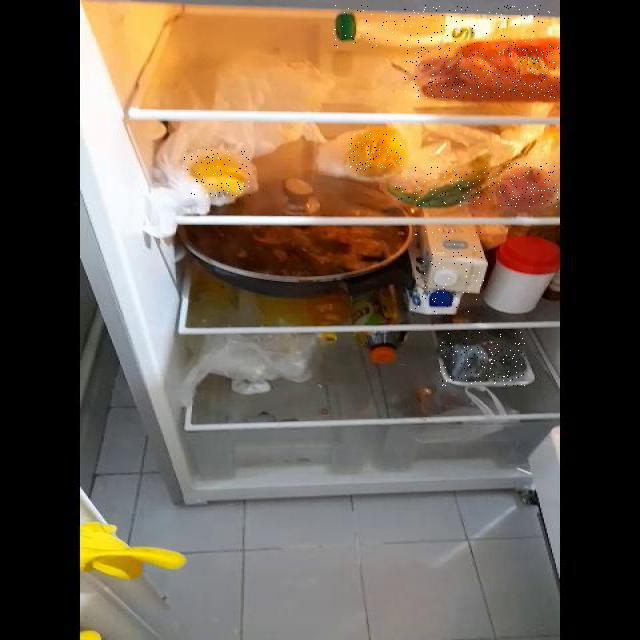broccoli: (440, 331, 525, 386)
carrot: (404, 46, 560, 98)
green chilies: (394, 167, 498, 206)
lemon: (182, 149, 250, 197), (350, 132, 406, 173)
milk: (333, 5, 551, 48), (409, 229, 484, 316)
tomato: (496, 163, 559, 207)
